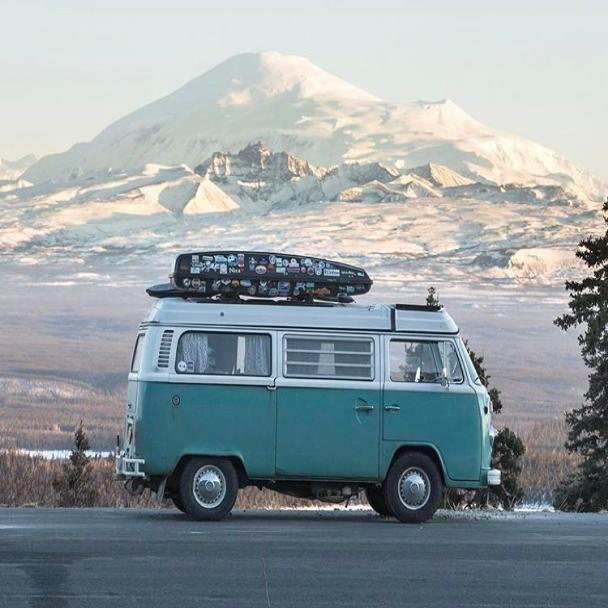Mobil: (123, 281, 497, 525)
